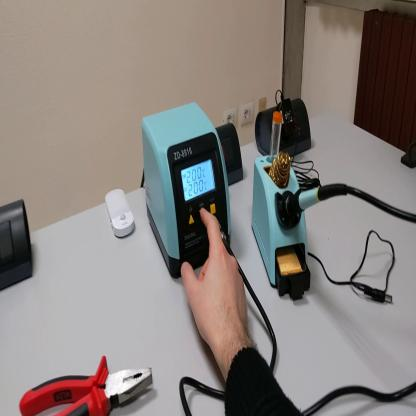hand: (183, 207, 251, 352)
pliers: (20, 354, 154, 416)
socket: (256, 91, 312, 161), (217, 119, 243, 186)
welder base: (253, 100, 312, 302)
welder probe tip: (285, 182, 342, 218)
welder station: (144, 105, 234, 282)
